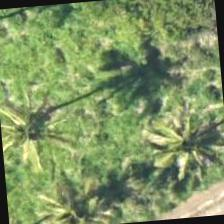Kelapa_Sawit: (139, 102, 223, 201), (0, 78, 79, 175), (16, 171, 112, 223)
